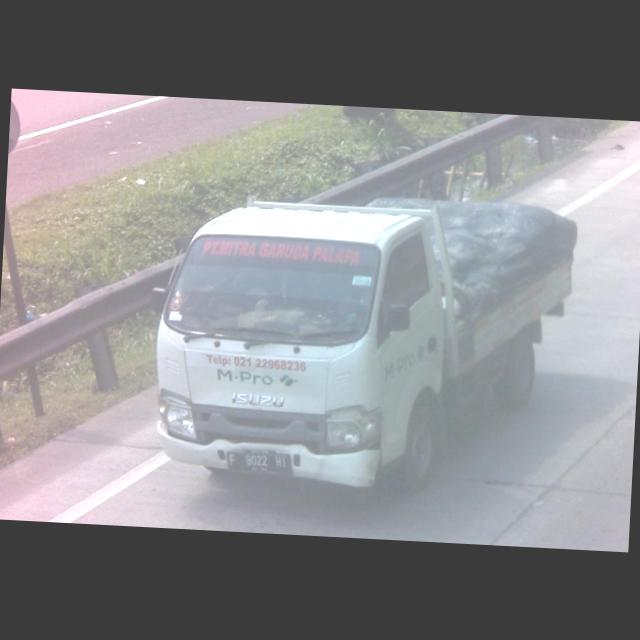plate: (222, 448, 296, 477)
